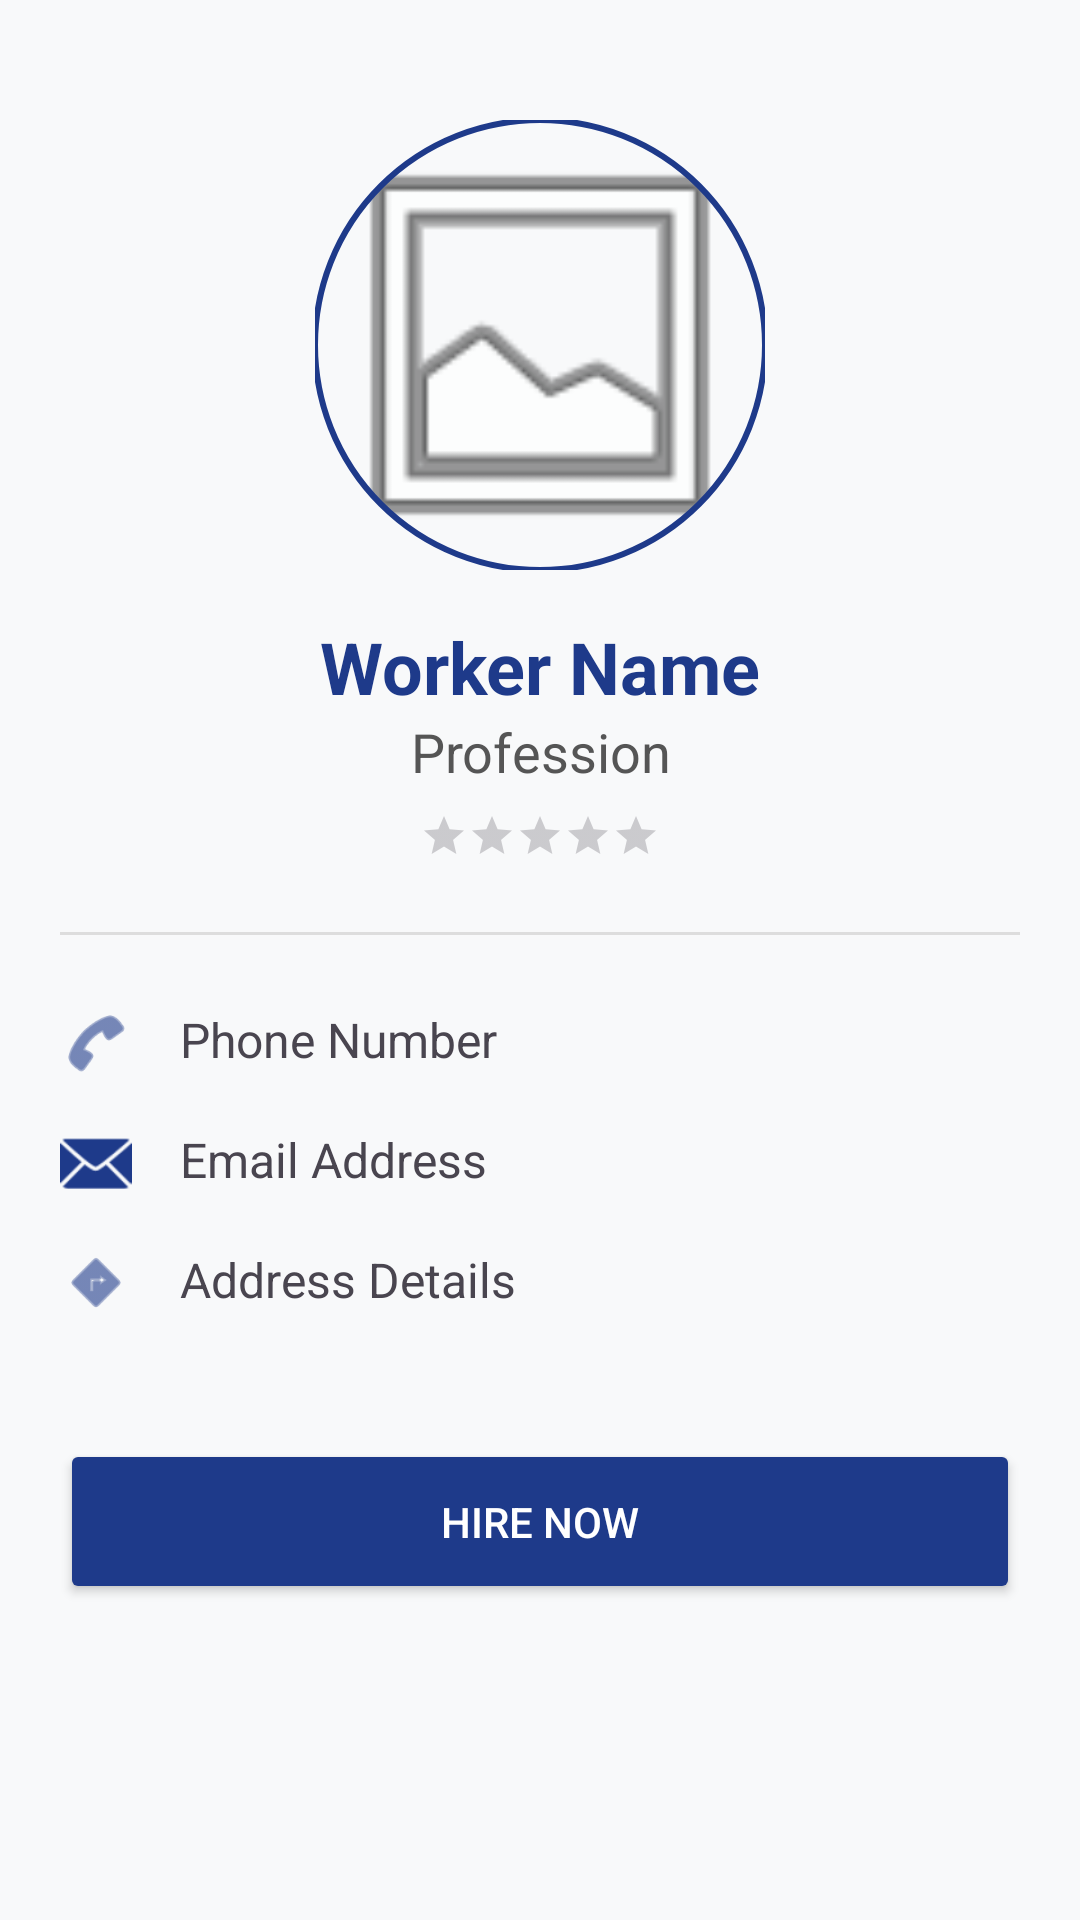

Icons on this 1080px x 1920px Android screen, each with its box as (x1, y1, x2, y2):
call: (68, 1015, 125, 1072)
directions: (71, 1258, 121, 1307)
